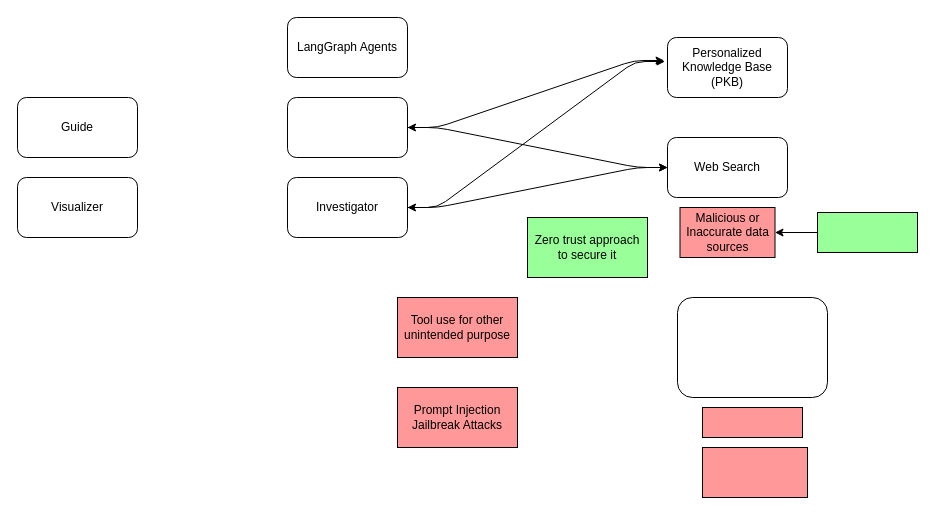
Some shapes in this 935 by 515 pixel diagram are drawn without their labels. Here are the shapes that lost their labels. From the top down, the centre of each, then its label:
At pixel 347 127: "Historian".
At pixel 867 232: "Verify data sources".
At pixel 752 347: "LLM Claude Gemini ChatGPT Llama".
At pixel 752 422: "Vulnerable Model".
At pixel 755 472: "Outdated or Deprecated Models".
